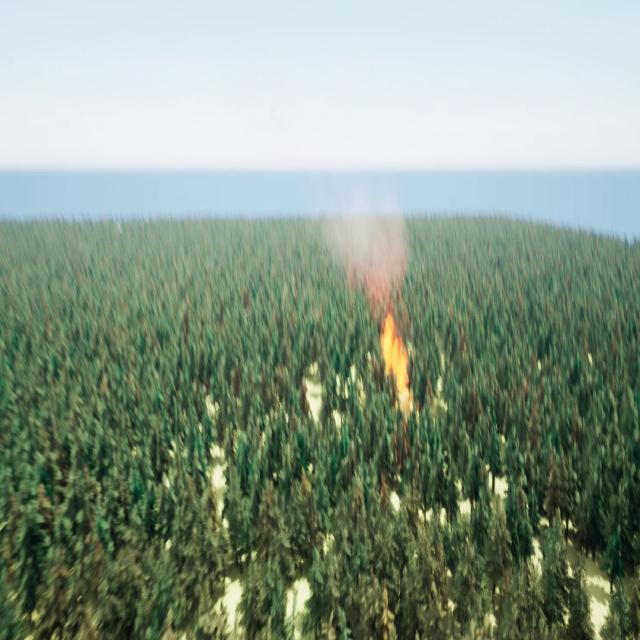fire: (381, 308, 412, 396)
smoke: (313, 175, 408, 310)
